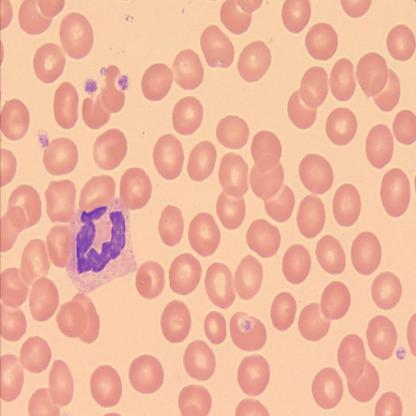Segmented neutrophil: (63, 193, 140, 293)
